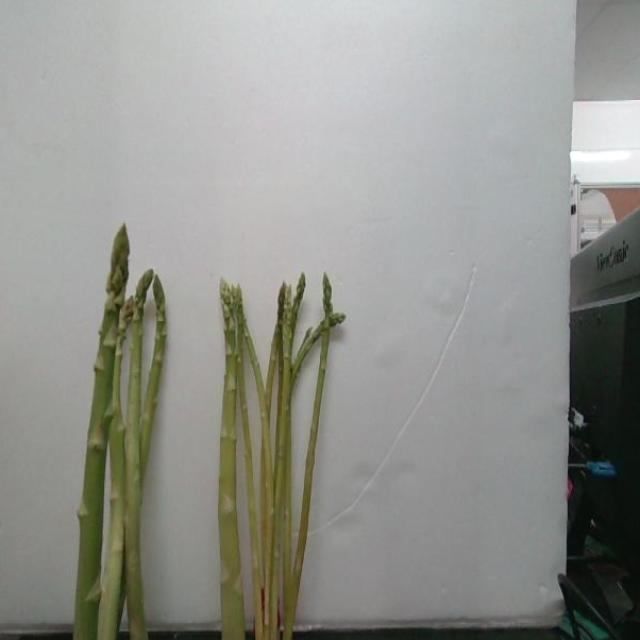aspargus: (72, 220, 133, 639)
